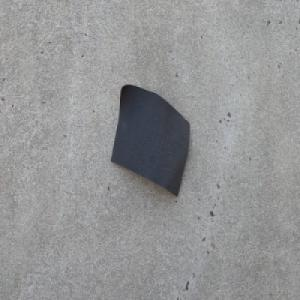PaintChip: (109, 78, 192, 198)
